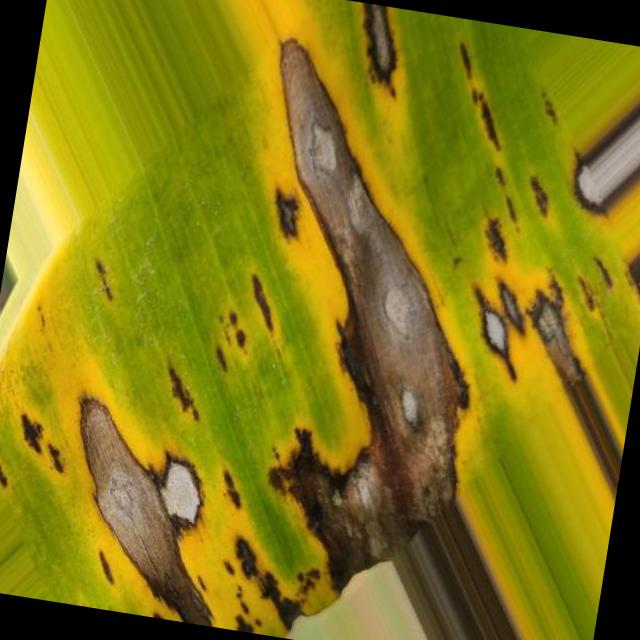Banana_Yellow_Sigatoka: (228, 34, 610, 411), (25, 367, 468, 640)
